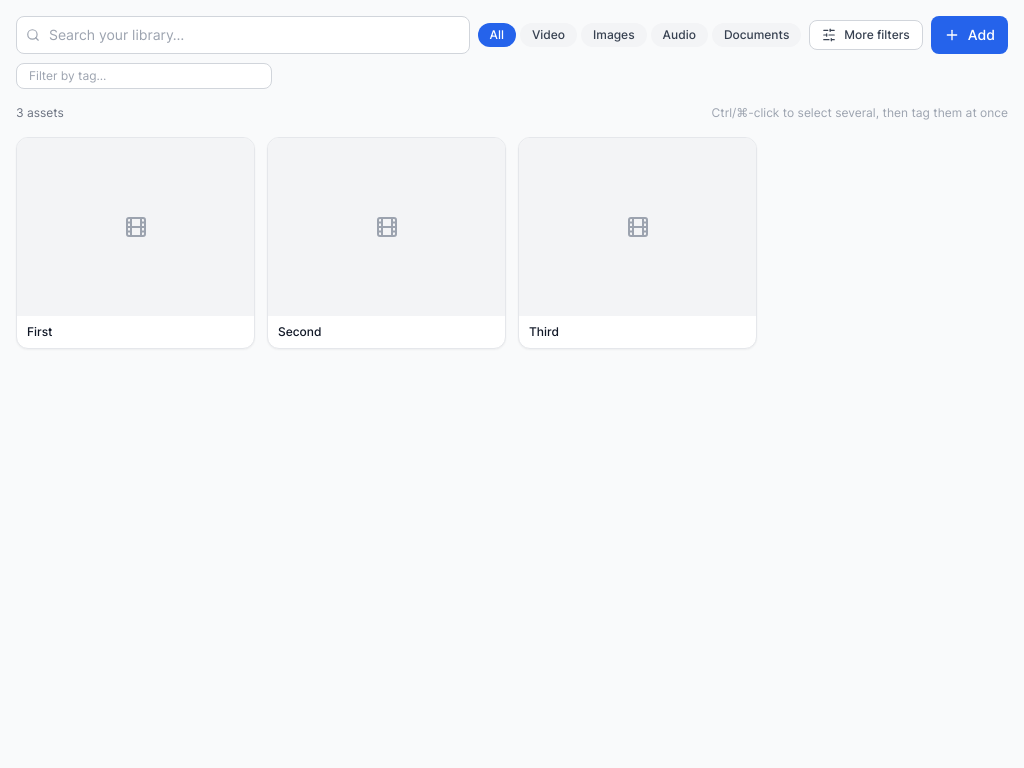
Test: LibraryView selection › drops selected ids that a filter change took off screen
Type keys "{Control>}"
Click the button "First" at (136, 243), box [16,137,255,349]
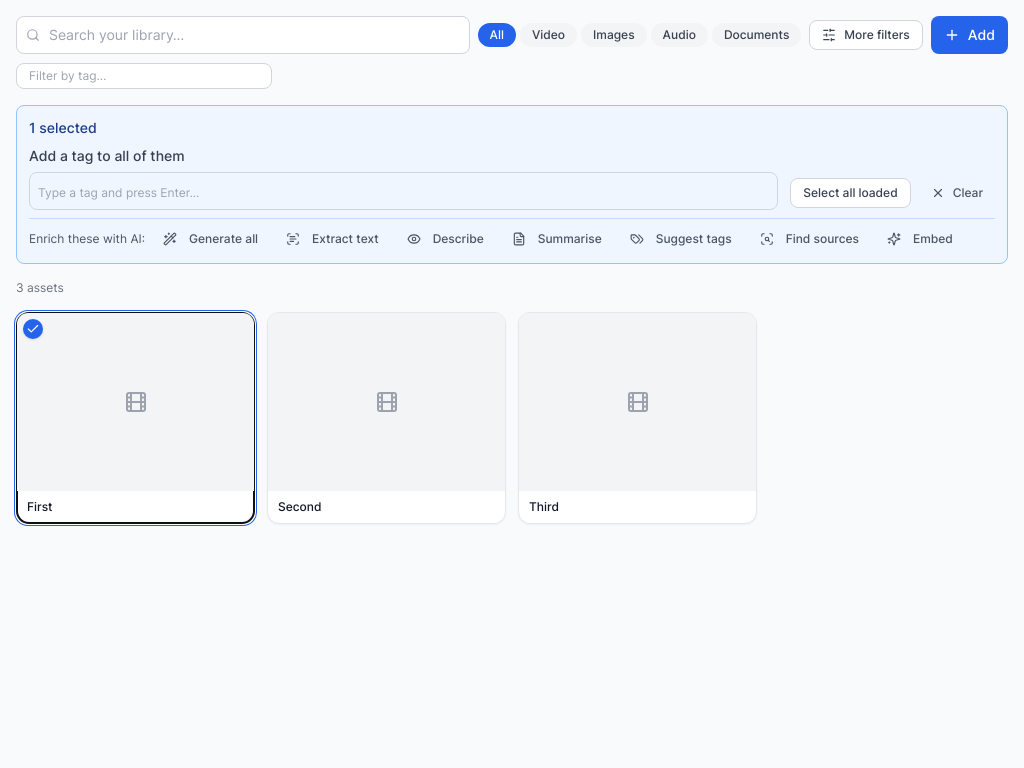
Click the button "Second" at (386, 418), box [267,312,506,524]
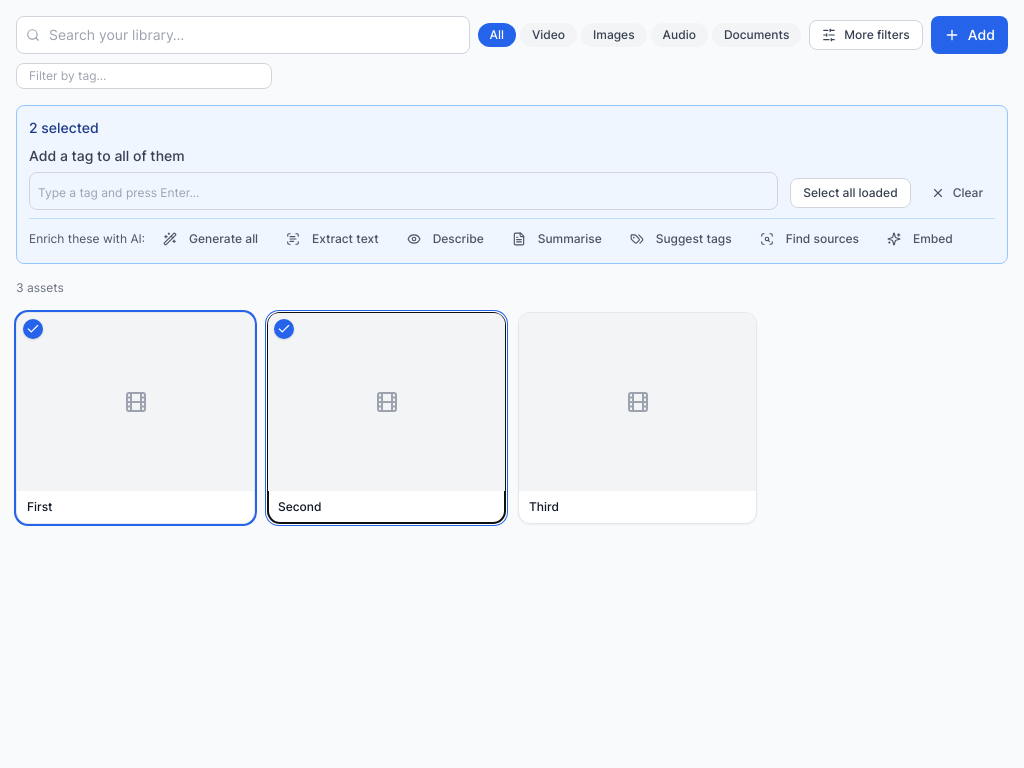
Type keys "{/Control}"
expect the text "2 selected" is shown: met, box [29,119,99,136]
Click the button "Images" at (614, 35), box [581,23,647,47]
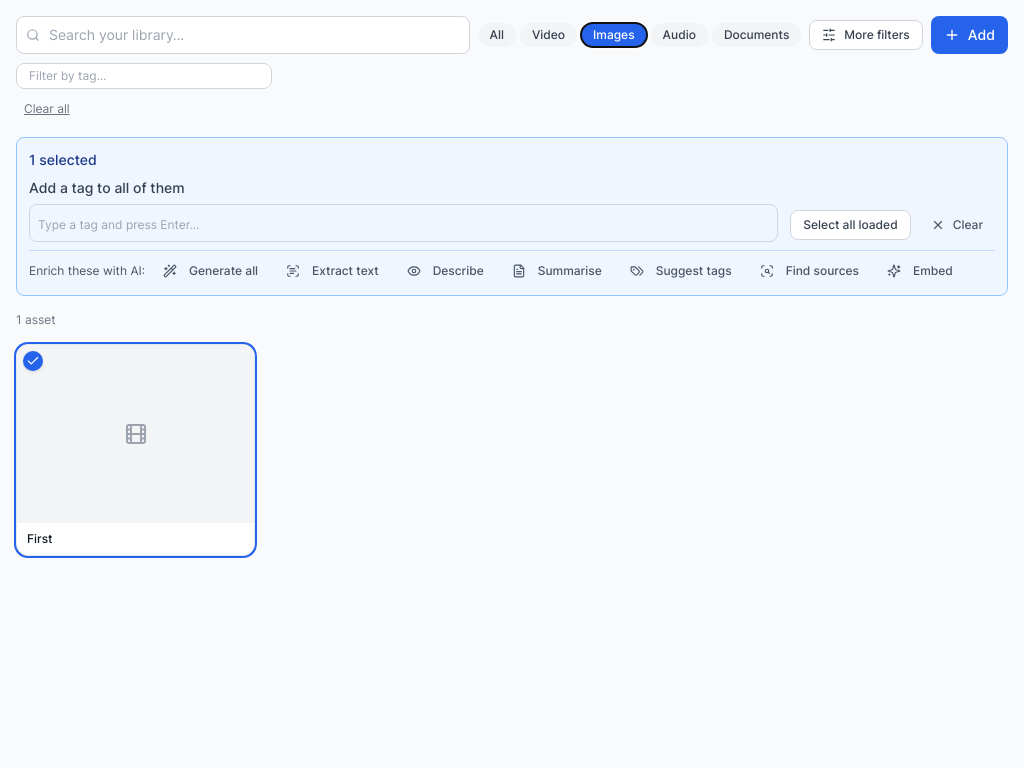
expect the text "1 selected" is shown: met, box [29,151,97,168]
